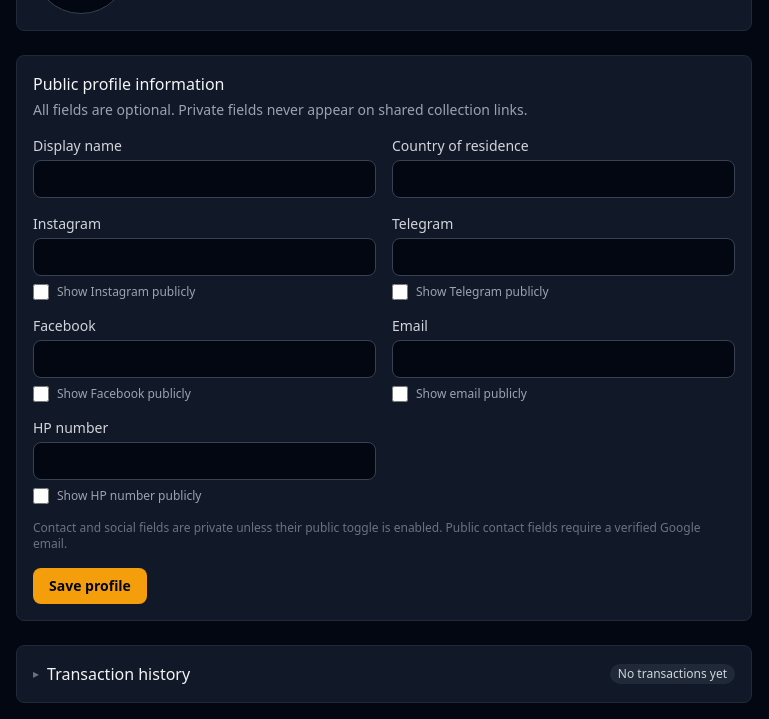
Test: SettingsPage transaction history › section disclosure (REQ-ACC-1) › shows the empty chip and preserves the empty body state (AC-ACC-1.4/1.6/1.7)
(page scrolled)
Expected: the text "No transactions yet" is shown, [610,664,735,684]
Click the button "▸ Transaction history No transactions yet" at (119, 674), box [33,662,735,686]
(page scrolled)
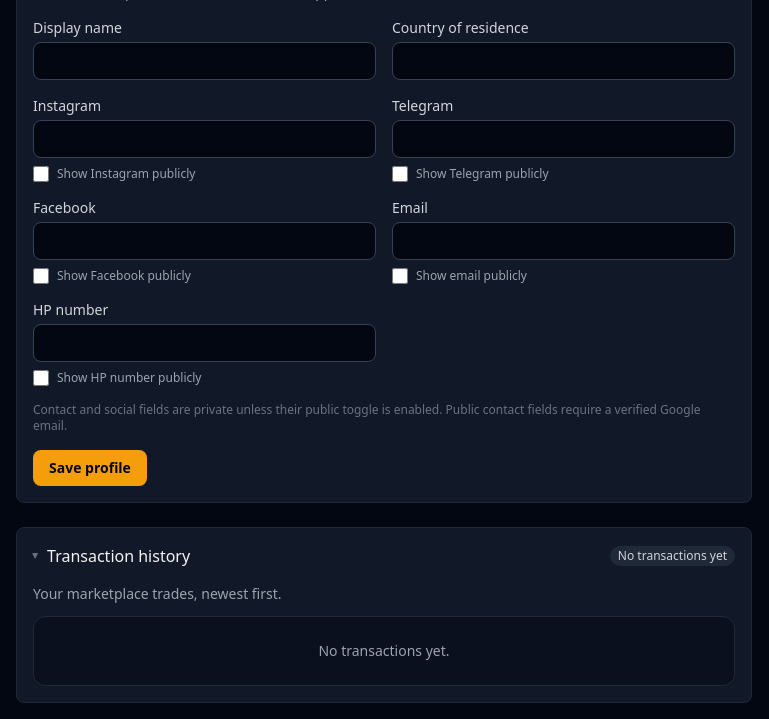
Result: the text "No transactions yet." is shown at [33,616,735,686]
